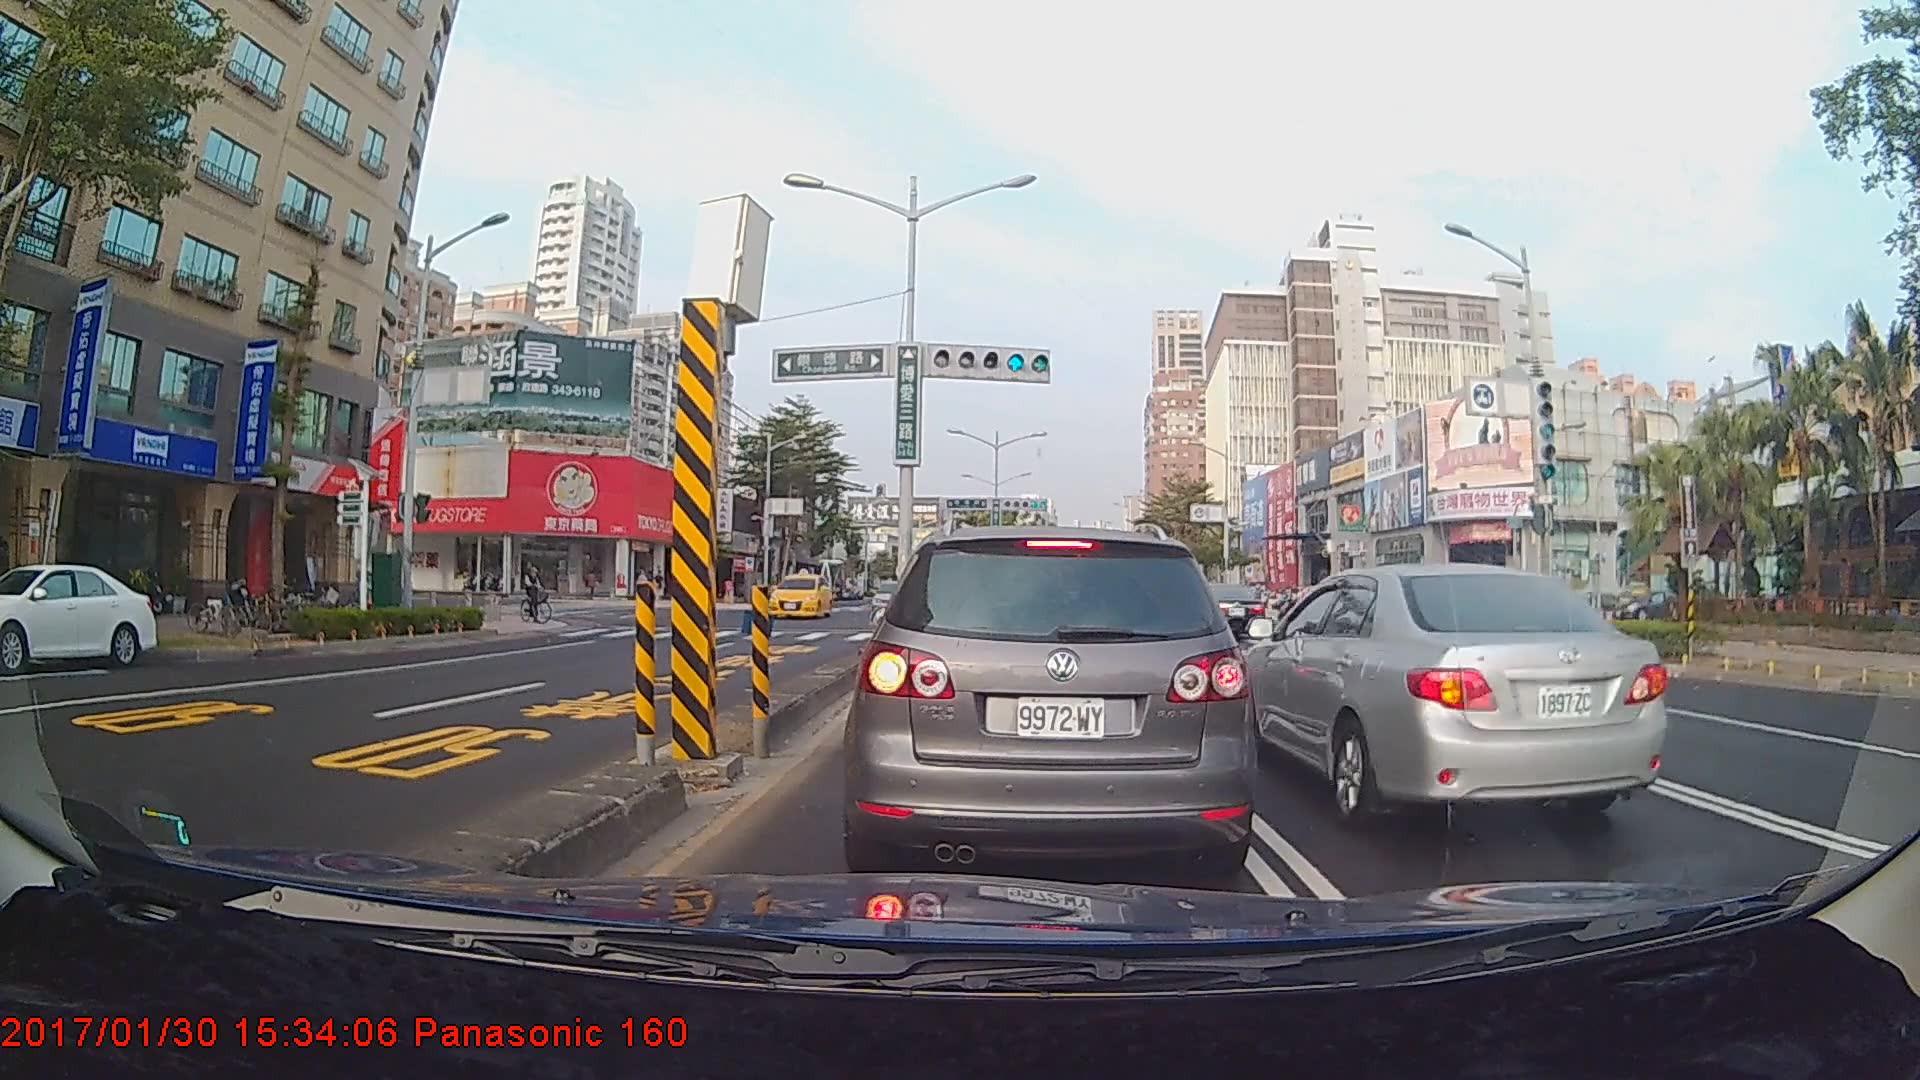rider: (518, 559, 561, 629)
vehicle: (852, 521, 1246, 879), (1219, 560, 1668, 831), (0, 561, 162, 671), (1187, 580, 1268, 642), (765, 575, 832, 621)
